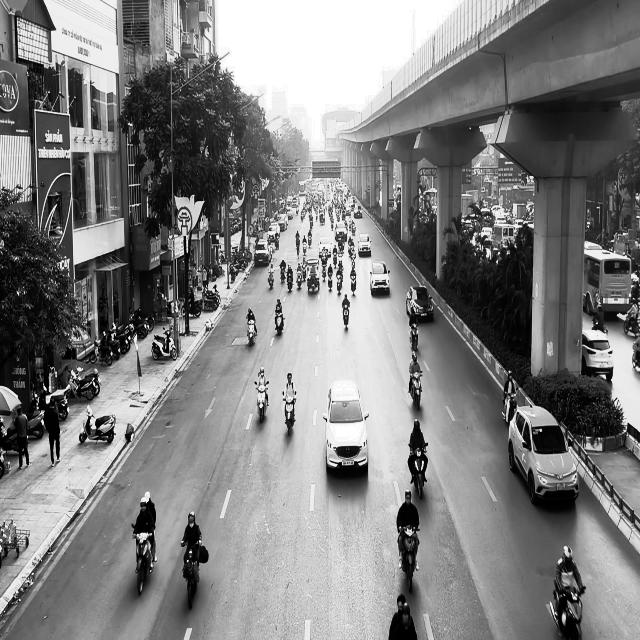bus: (583, 240, 632, 316)
car: (508, 405, 579, 504), (322, 378, 370, 472), (406, 285, 434, 322), (369, 261, 390, 295), (358, 233, 371, 255)
motorbike: (548, 584, 586, 640), (131, 526, 156, 596), (397, 523, 420, 592), (180, 538, 202, 609), (79, 405, 116, 444), (408, 442, 428, 499), (151, 328, 177, 360), (282, 390, 297, 435), (254, 380, 269, 422), (502, 388, 518, 425), (408, 370, 422, 409), (274, 307, 284, 335), (247, 319, 257, 346), (409, 322, 418, 352), (342, 302, 350, 328)
